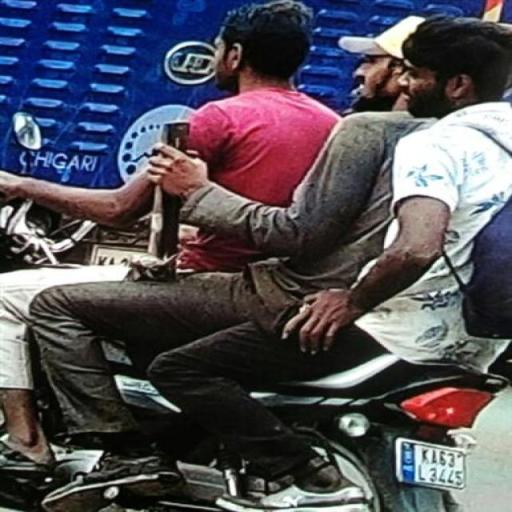tripple riding: (4, 1, 512, 373)
